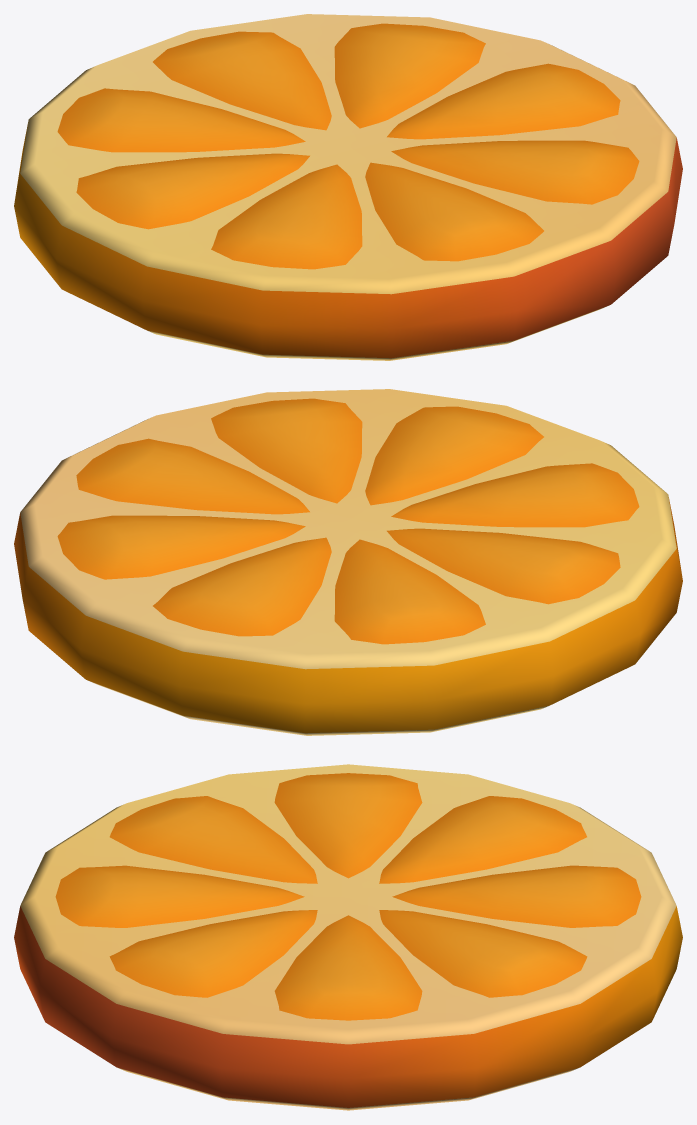
File: orange_004.fbx
3 views of the same model, one above another, from view 1: azimuth 30°, elevation 25°; view 2: azimuth 150°, elevation 25°; view 3: azimuth 270°, elevation 25° (orthographic).
Parts seen in each view (by area): view 1: orange_004; view 2: orange_004; view 3: orange_004.
Part boxes in pixels (x1=…): orange_004: x1=14, y1=14, x2=682, y2=360; orange_004: x1=14, y1=389, x2=682, y2=735; orange_004: x1=14, y1=764, x2=682, y2=1110.
Bounding box in the file's own units: 10.98 × 10.98 × 1.9.
